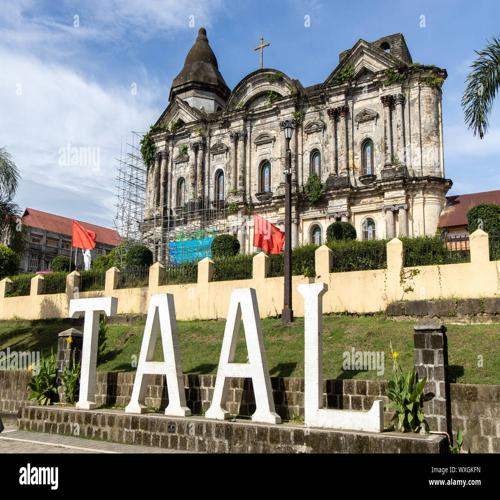Taal Basilica Church: (128, 13, 449, 263)
